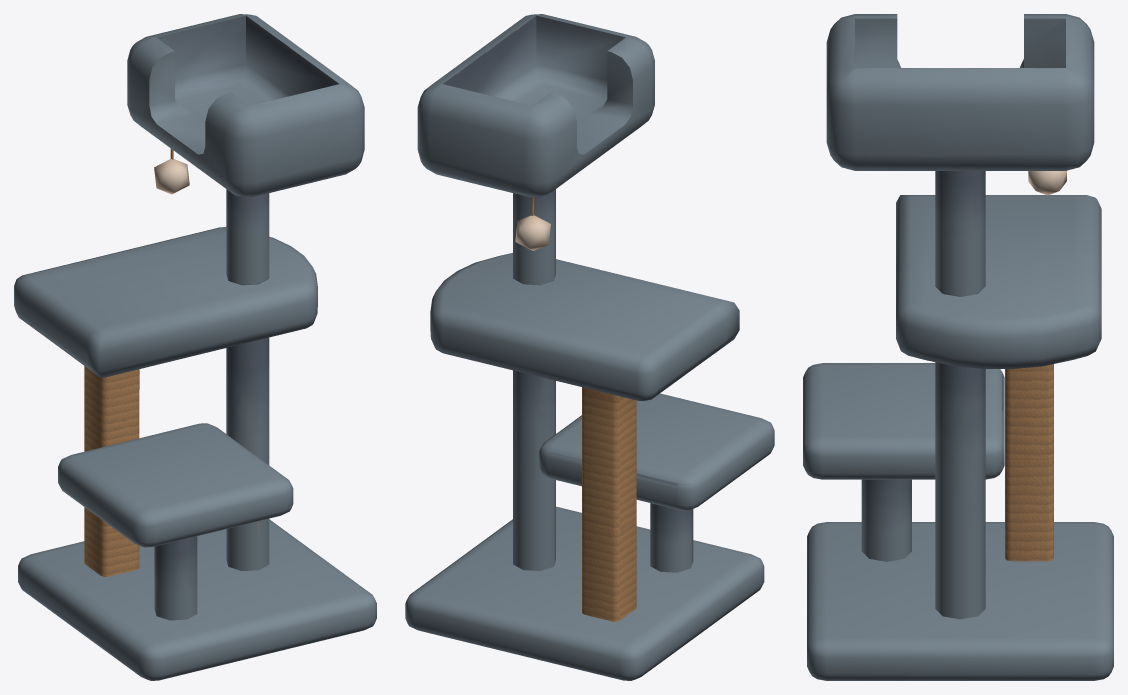
Rendered from cat_tower.glb.
3 renders of one model, left to right at view 1: azimuth 30°, elevation 25°; view 2: azimuth 150°, elevation 25°; view 3: azimuth 270°, elevation 25°, orthographic. The views are drawn at different scales.
Parts seen in each view (by area): view 1: Cube.001; view 2: Cube.001; view 3: Cube.001.
Boxes of the visible parts, left/top/right/bottom form: Cube.001: left=14, top=14, right=376, bottom=680; Cube.001: left=405, top=14, right=774, bottom=680; Cube.001: left=803, top=14, right=1113, bottom=680.
Bounding box in the file's own units: 0.9622 × 2 × 0.9296.
Materials: 1 (1 with a texture image).
